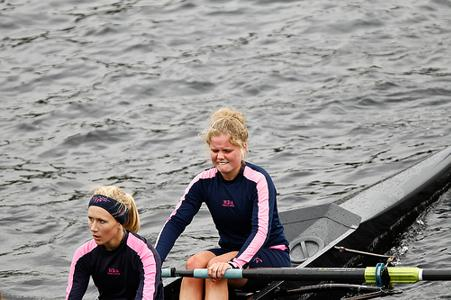person: (153, 110, 292, 300)
